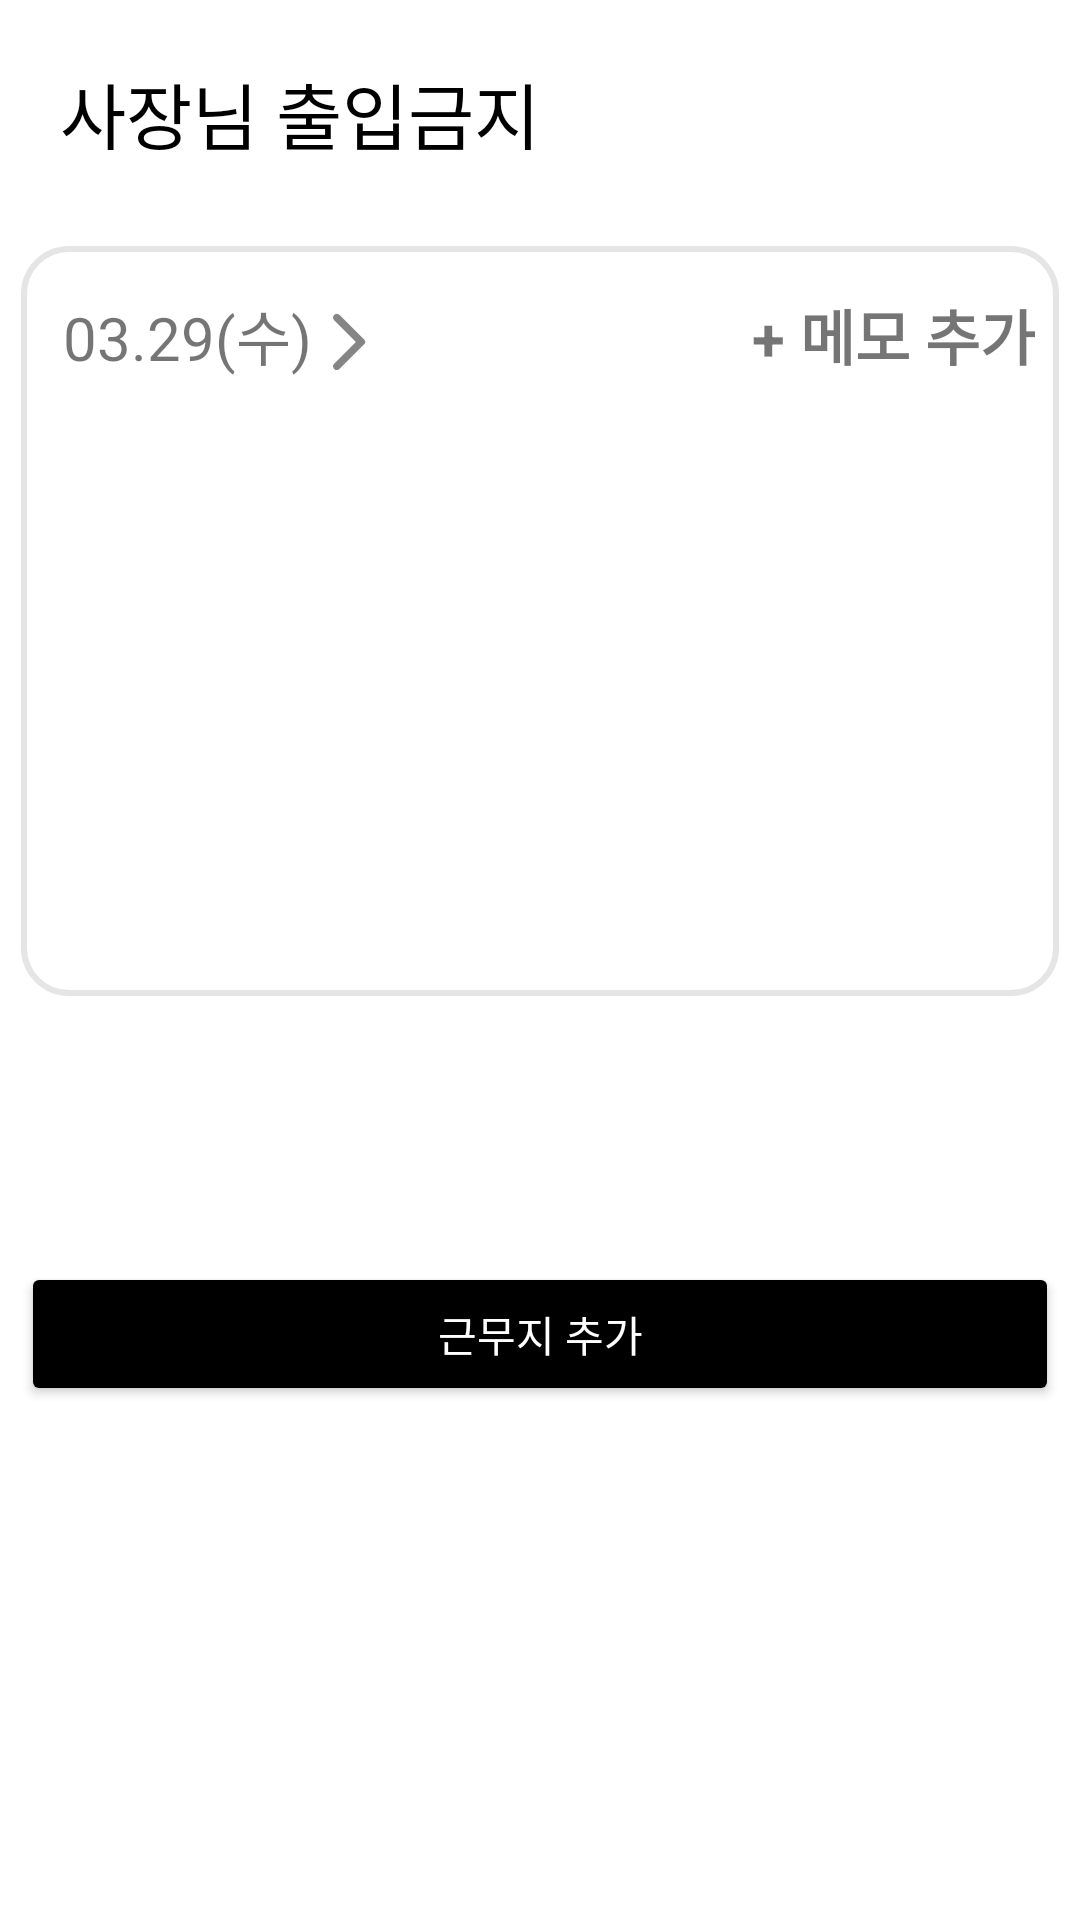

Screen size 1080*1920. Icon name, then its box in pixels as (x1, y1, x2, y2):
arrow right: (333, 314, 365, 370)
